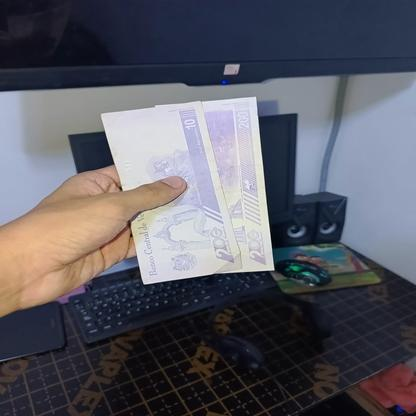ten-back-vef: (99, 100, 242, 286)
two_hundred-back-vef: (200, 95, 276, 272)
